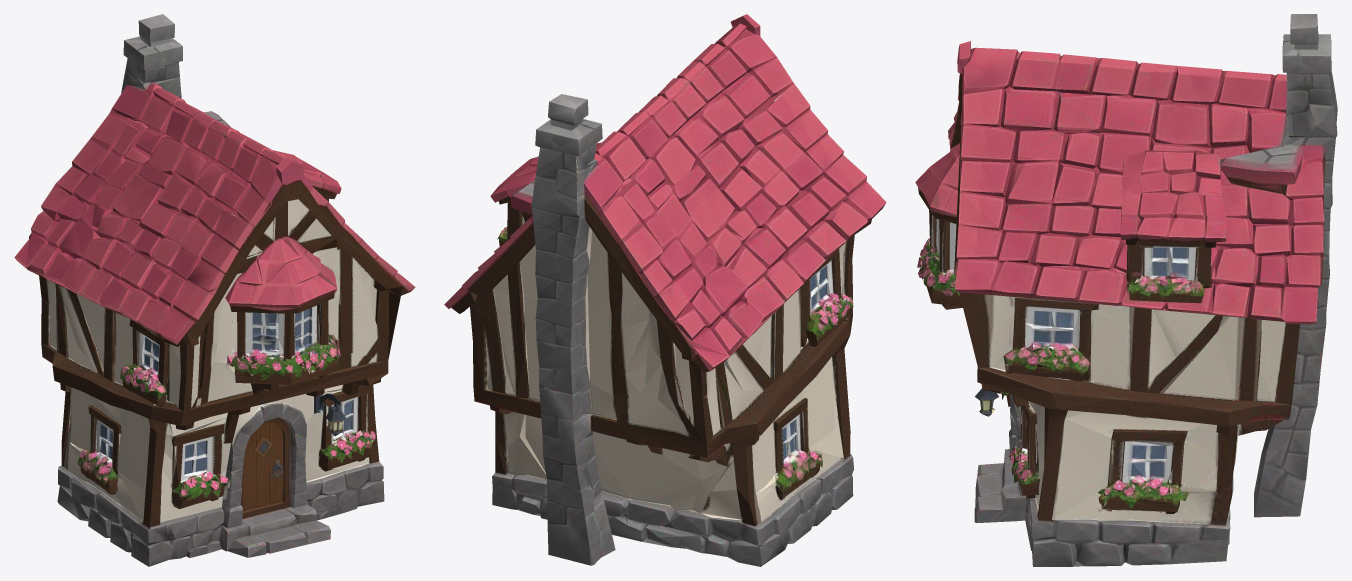
File: town_house_a.glb
3 views of the same model, side by side, from view 1: azimuth 30°, elevation 25°; view 2: azimuth 150°, elevation 25°; view 3: azimuth 270°, elevation 25° (orthographic). The views are drawn at different scales.
Size of the model in its own units: 1.21 by 1.9 by 1.5.
1 material, 1 textured.
